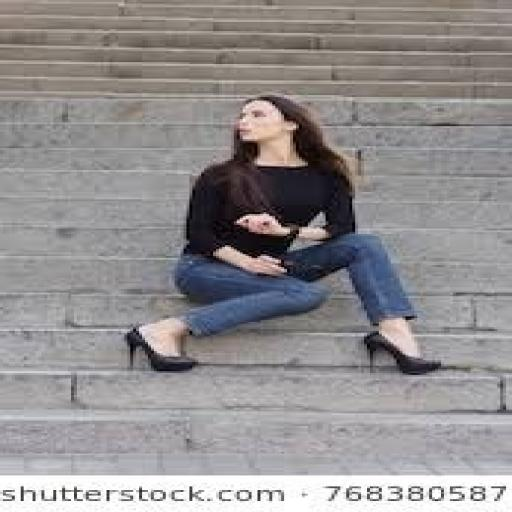sitting: (121, 91, 444, 377)
